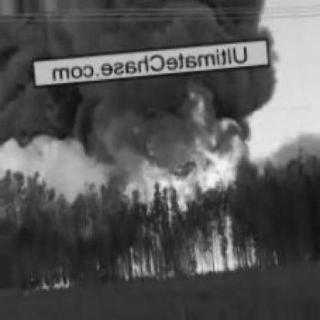Fire: (113, 107, 259, 283), (37, 270, 76, 293)
Smoke: (11, 6, 261, 108)
